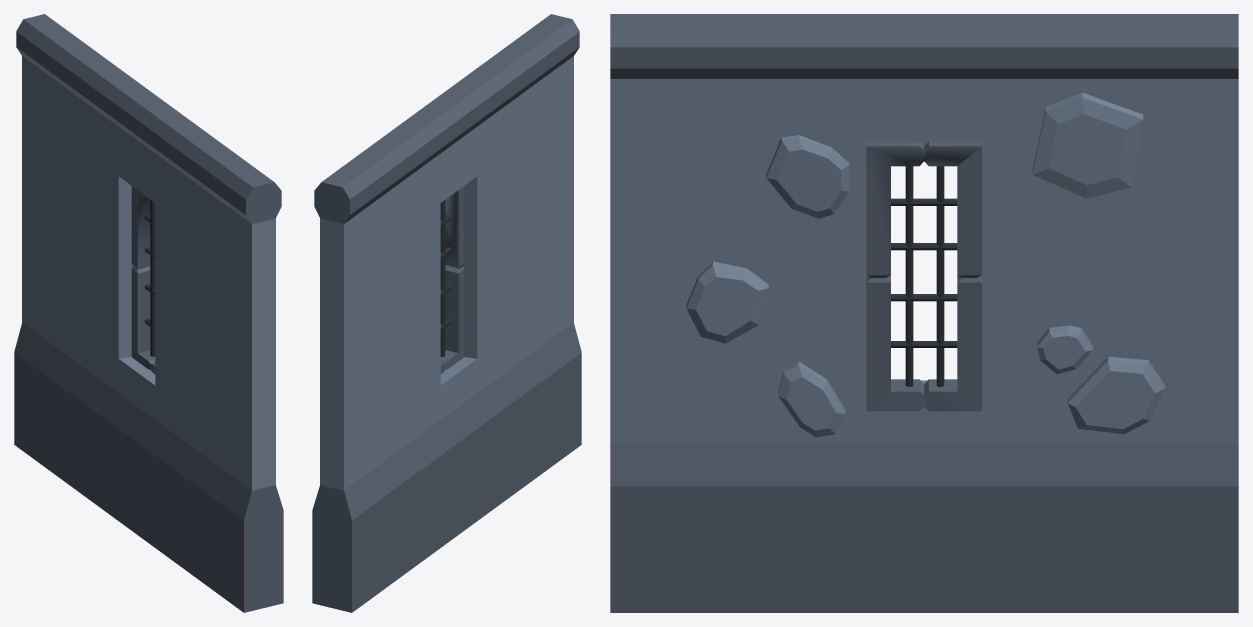
File: WallWindowed01.fbx
3 renders of one model, left to right at view 1: azimuth 30°, elevation 25°; view 2: azimuth 150°, elevation 25°; view 3: azimuth 270°, elevation 25°, orthographic. The views are drawn at different scales.
Visible parts, largest first — view 1: Cube.001; view 2: Cube.001; view 3: Cube.001.
Part boxes in pixels (x1,y1,x2,y2): Cube.001: (14, 14, 283, 612); Cube.001: (312, 14, 581, 612); Cube.001: (610, 14, 1238, 612).
Bounding box in the file's own units: 83.38 × 813 × 800.
Materials: 1 (1 with a texture image).
